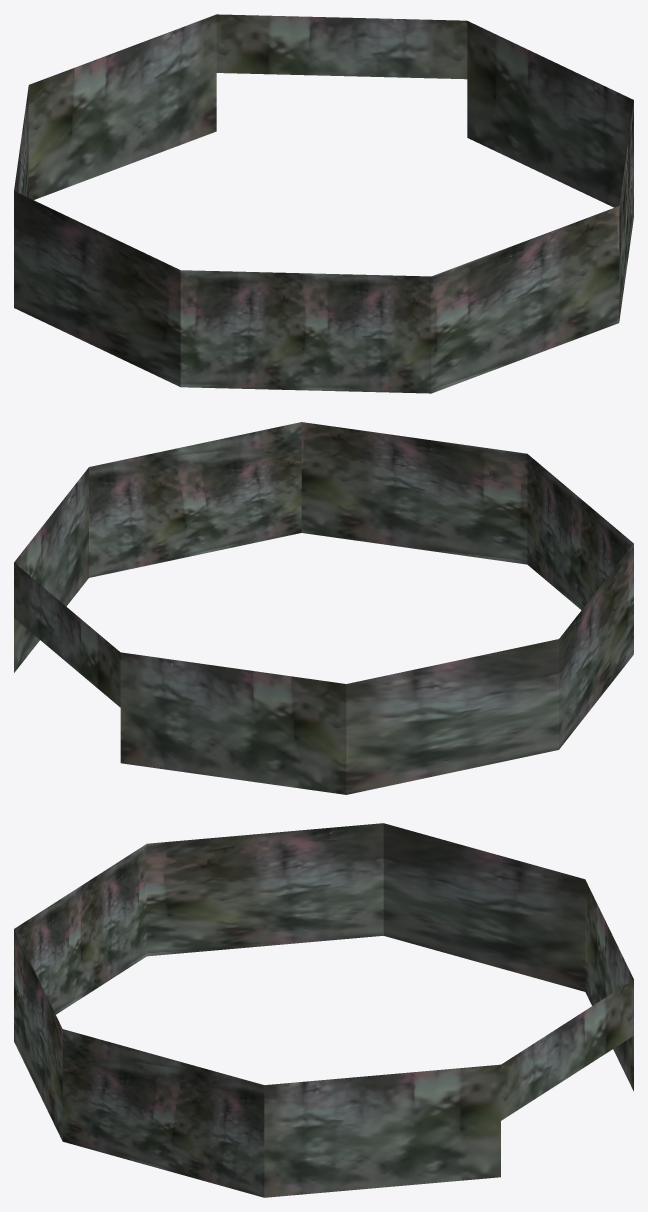
Rendered from TheOctagon_Floor_01_Wall_2.gltf.
The picture shows the model from 3 angles, top to bottom: view 1: azimuth 30°, elevation 25°; view 2: azimuth 150°, elevation 25°; view 3: azimuth 270°, elevation 25°; orthographic projection. The views are drawn at different scales.
Parts seen in each view (by area): view 1: TheOctagon_Floor_01_Wall_2; view 2: TheOctagon_Floor_01_Wall_2; view 3: TheOctagon_Floor_01_Wall_2.
Boxes of the visible parts, <box> form: TheOctagon_Floor_01_Wall_2: <box>14,14,633,393</box>; TheOctagon_Floor_01_Wall_2: <box>14,422,633,794</box>; TheOctagon_Floor_01_Wall_2: <box>14,823,633,1197</box>.
Size of the model in its own units: 79.3 by 15.9 by 79.3.
Materials: 1 (1 with a texture image).
